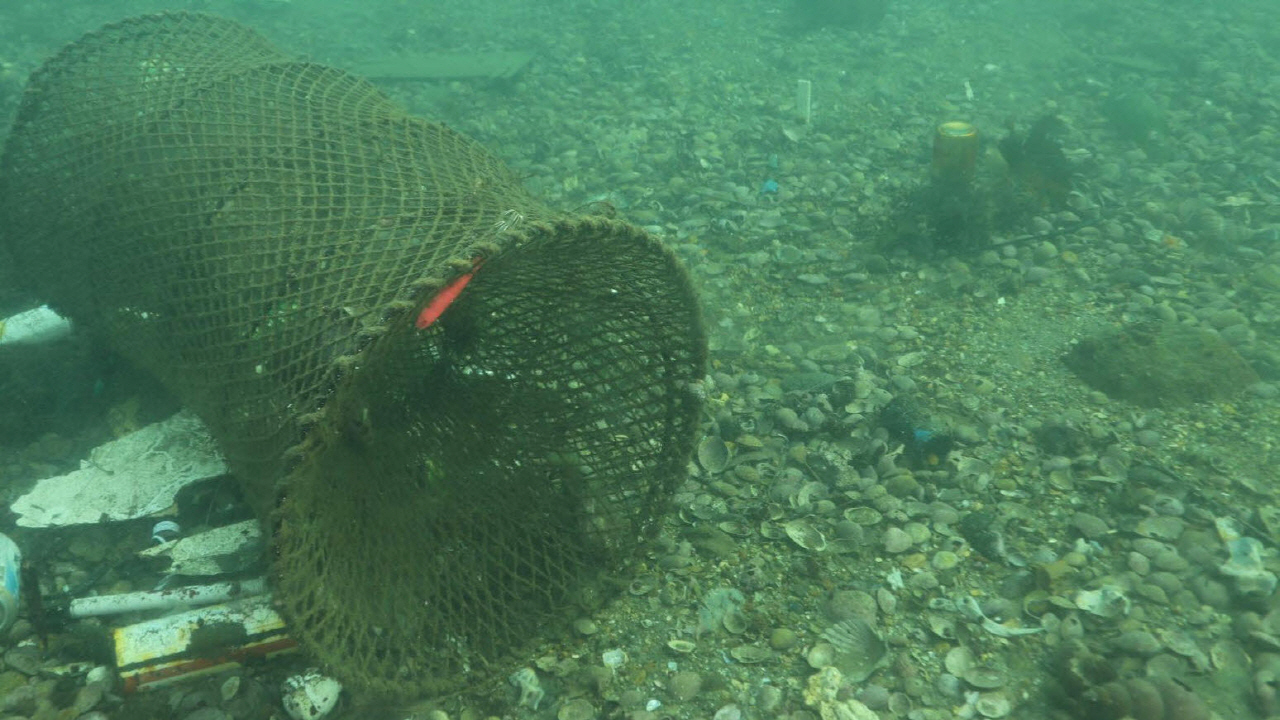spring fish trap: (0, 11, 707, 696)
